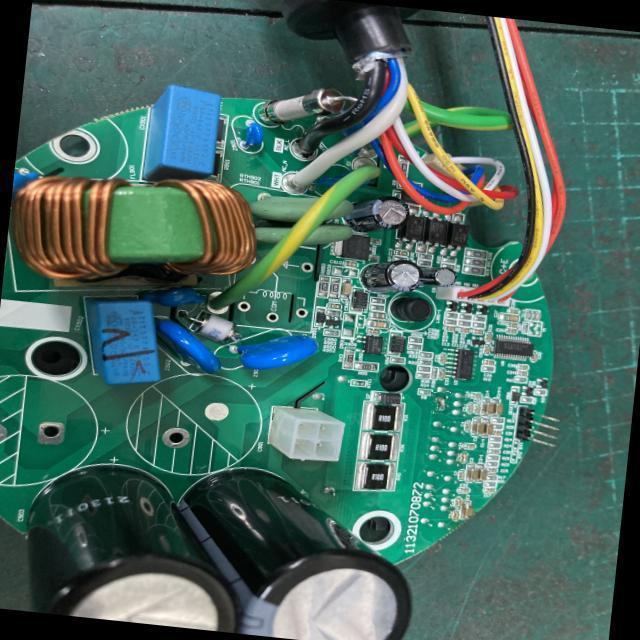damged: (432, 392, 452, 414)
